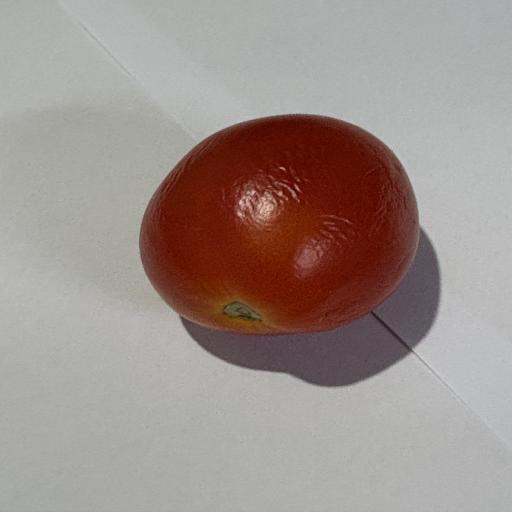spoiled: (140, 114, 419, 335)
